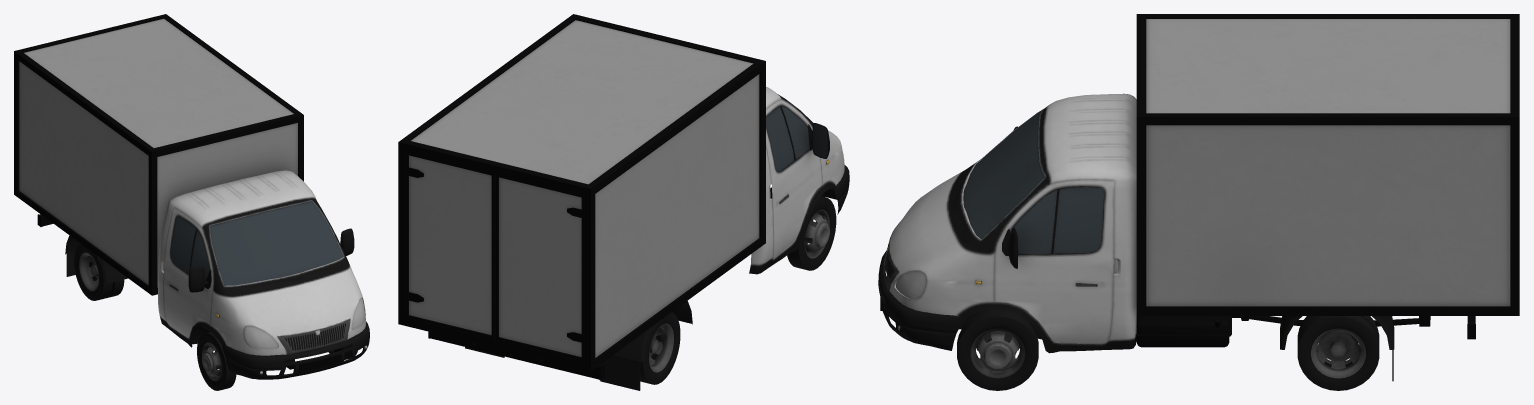
File: Gazel.FBX
3 views of the same model, side by side, from view 1: azimuth 30°, elevation 25°; view 2: azimuth 150°, elevation 25°; view 3: azimuth 270°, elevation 25° (orthographic). The views are drawn at different scales.
Visible parts, largest first — view 1: Gazel; view 2: Gazel; view 3: Gazel.
Boxes of the visible parts, <box> form: Gazel: <box>14,14,369,390</box>; Gazel: <box>398,14,849,390</box>; Gazel: <box>878,14,1519,390</box>.
Bounding box in the file's own units: 3148 × 3700 × 7661.
